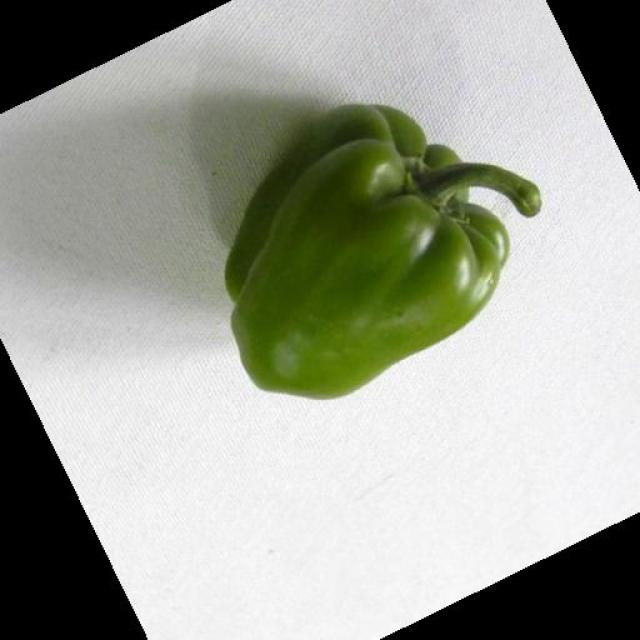Fresh_Capsicum: (201, 124, 534, 376)
